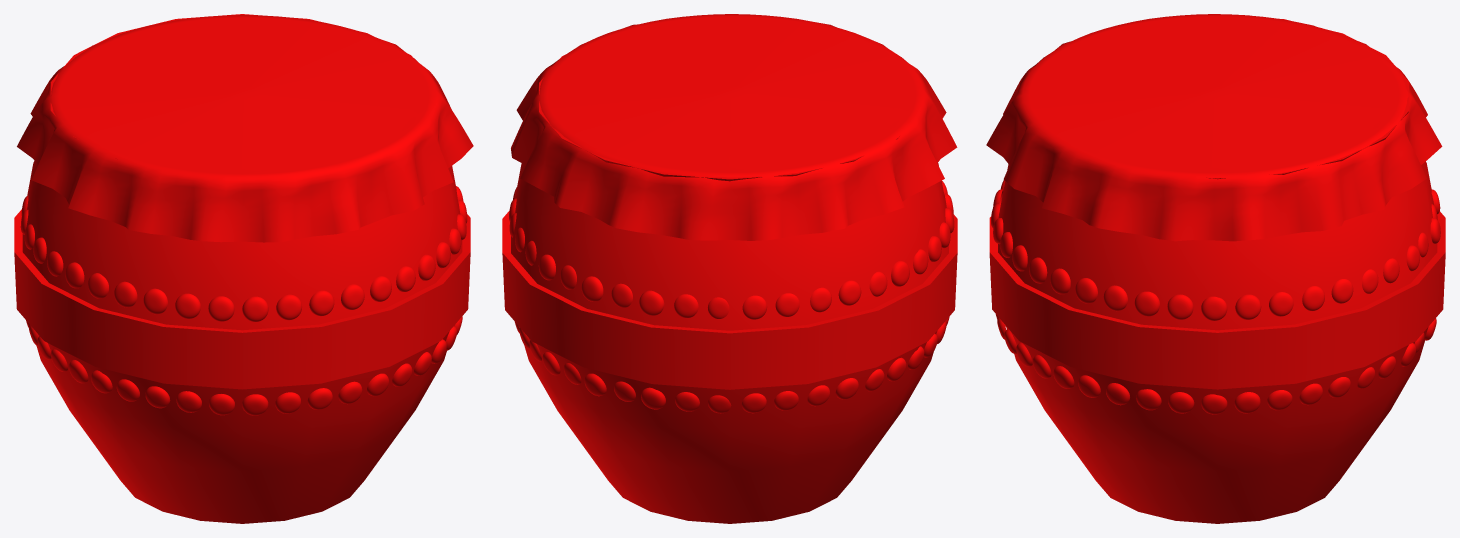
The model's file is MY_boll.fbx.
3 views of the same model, side by side, from view 1: azimuth 30°, elevation 25°; view 2: azimuth 150°, elevation 25°; view 3: azimuth 270°, elevation 25° (orthographic).
Parts seen in each view (by area): view 1: Cylinder001; view 2: Cylinder001; view 3: Cylinder001.
Boxes of the visible parts, box(x1,y1,x2,y2) form: Cylinder001: box(14, 14, 473, 523); Cylinder001: box(502, 14, 957, 523); Cylinder001: box(986, 14, 1445, 523).
Size of the model in its own units: 95.26 by 87.5 by 94.51.
